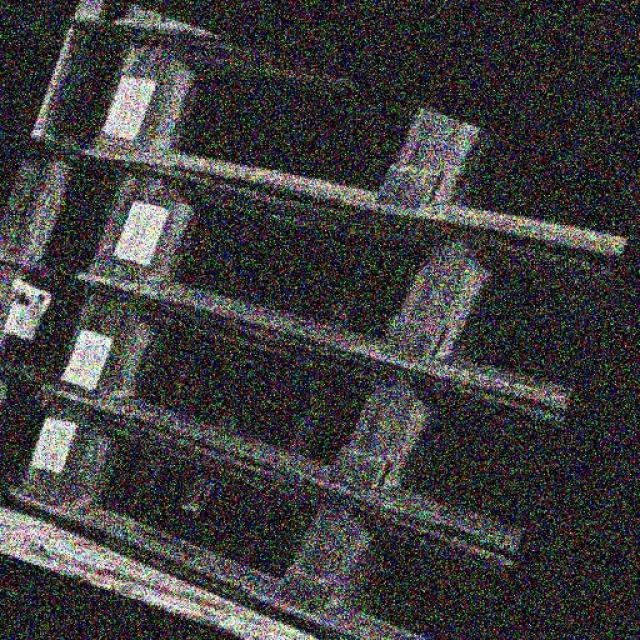igps: (25, 261, 577, 578), (5, 0, 640, 268), (55, 159, 621, 438), (3, 374, 533, 640)
